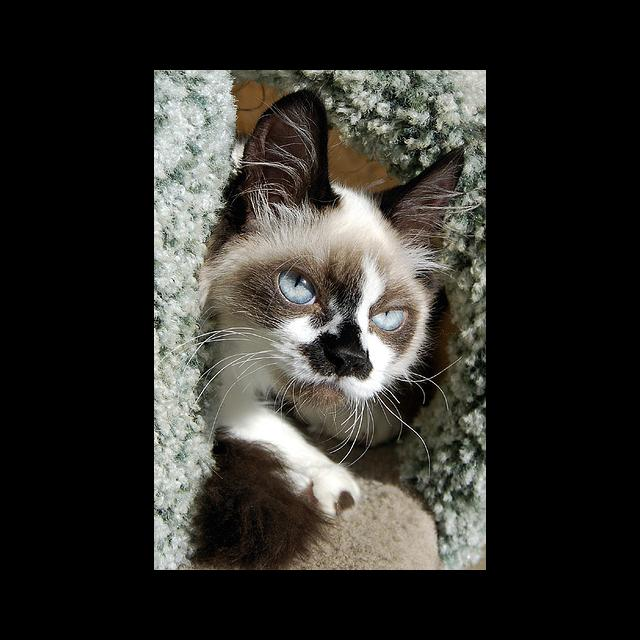animals: (244, 87, 463, 373)
